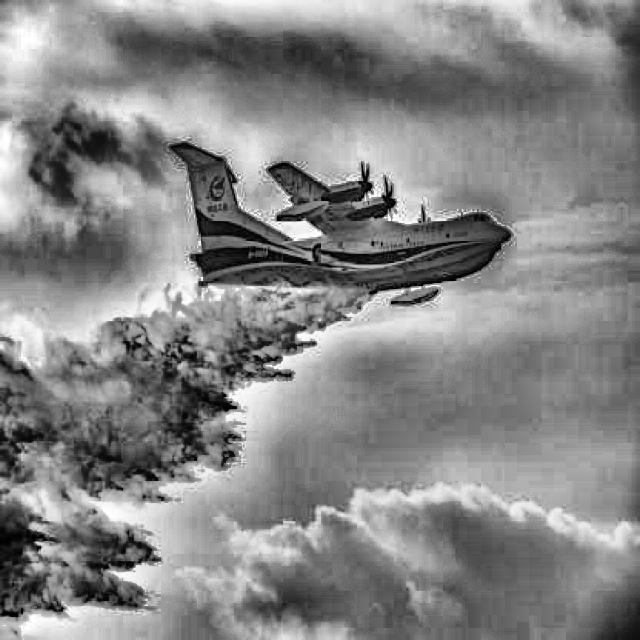AG600: (168, 142, 512, 306)
